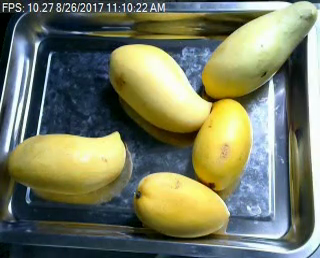Mango: (197, 3, 318, 100), (106, 40, 212, 132), (3, 130, 128, 195), (135, 171, 233, 241), (191, 95, 252, 192)
